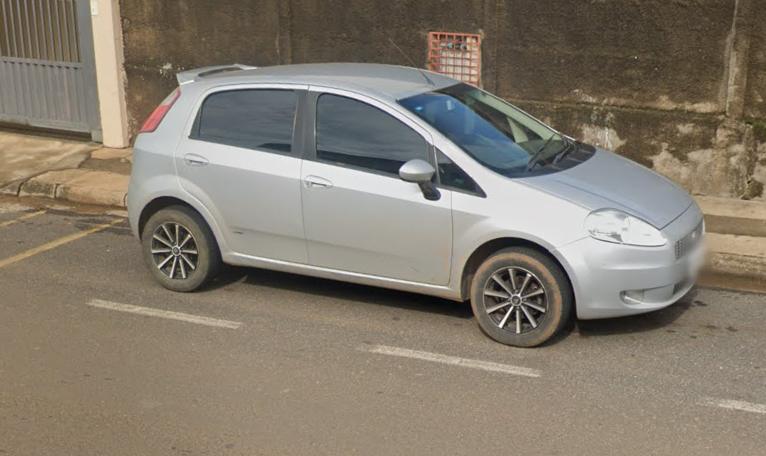car: (125, 59, 708, 349)
